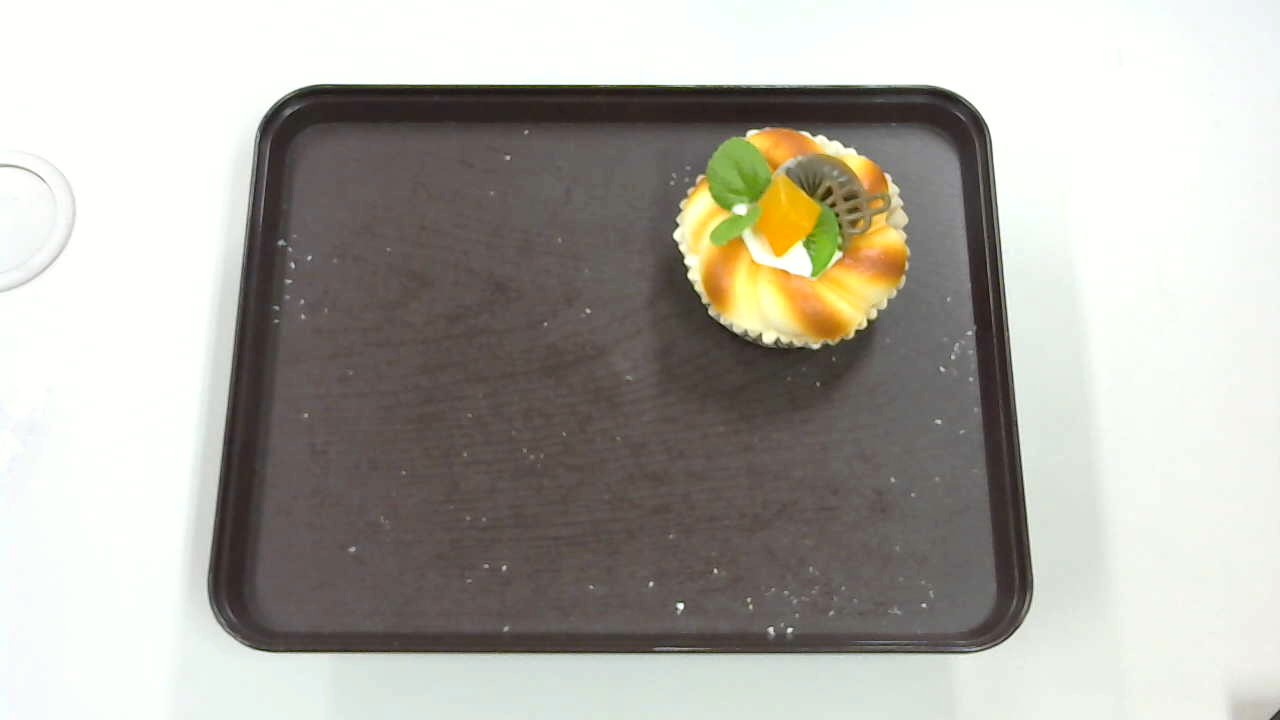fruit tart: (673, 125, 911, 352)
